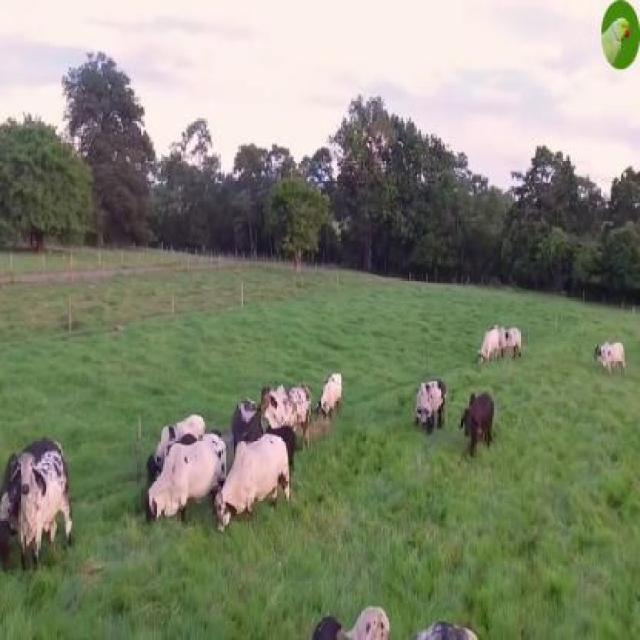Cow: (215, 434, 291, 534), (10, 456, 68, 570)
